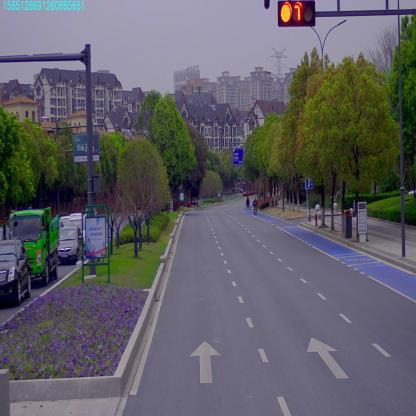traffic-light: (277, 4, 316, 31)
